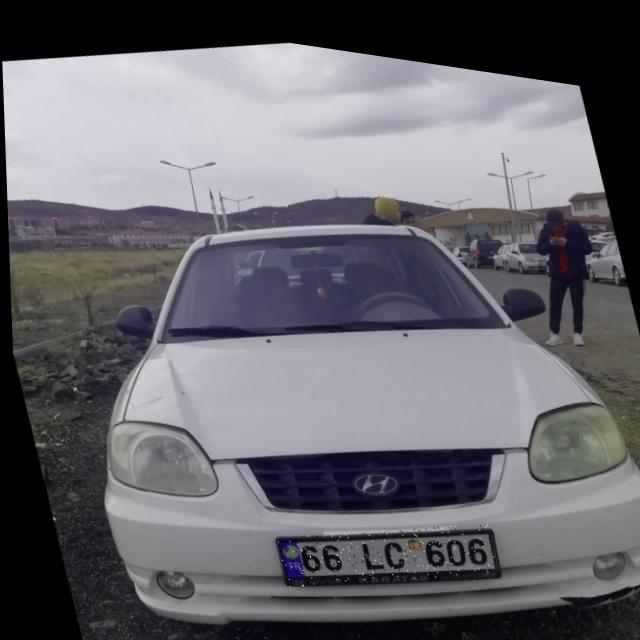license_plate: (270, 483, 499, 603)
